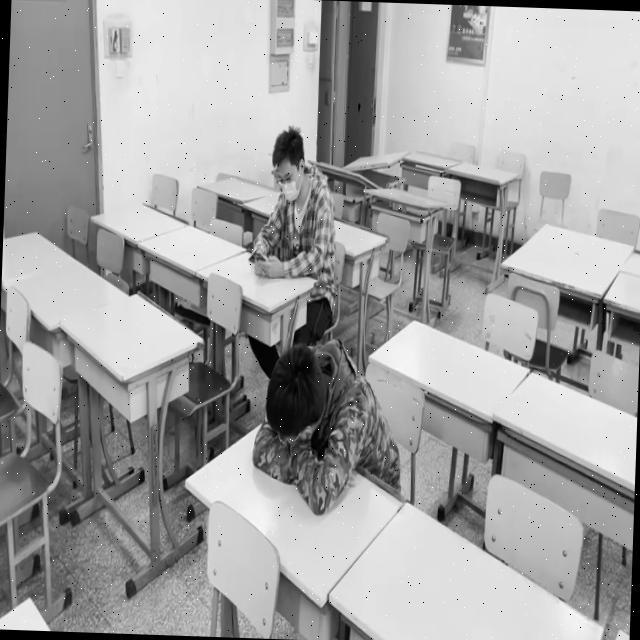phone: (246, 132, 337, 283)
sleep: (252, 341, 368, 507)
